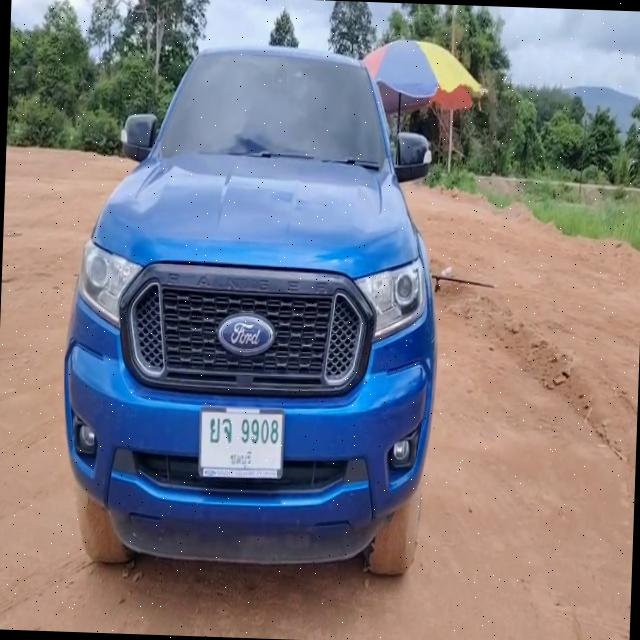Digit: (238, 415, 280, 448)
Licenseplate: (198, 407, 284, 478)
Provincename: (230, 448, 252, 468)
Thaichar: (208, 414, 232, 446)
